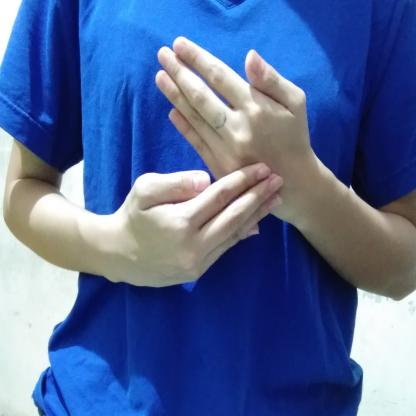thank you: (99, 32, 315, 294)
